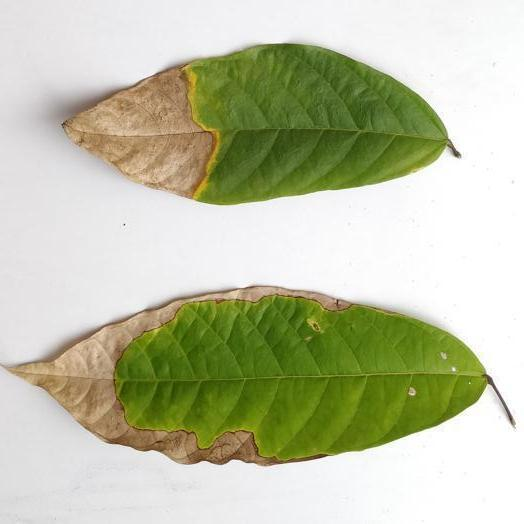Potassium: (12, 288, 492, 463), (64, 44, 459, 204)
